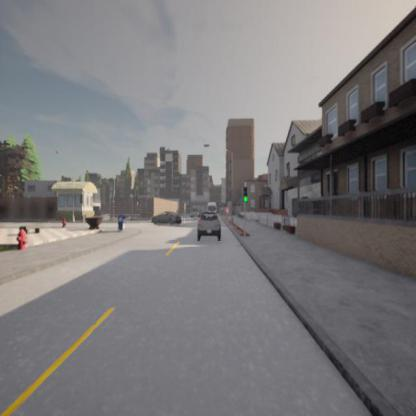traffic_light_green: (242, 186, 248, 204)
vehicle: (196, 214, 222, 238), (151, 212, 181, 226)
